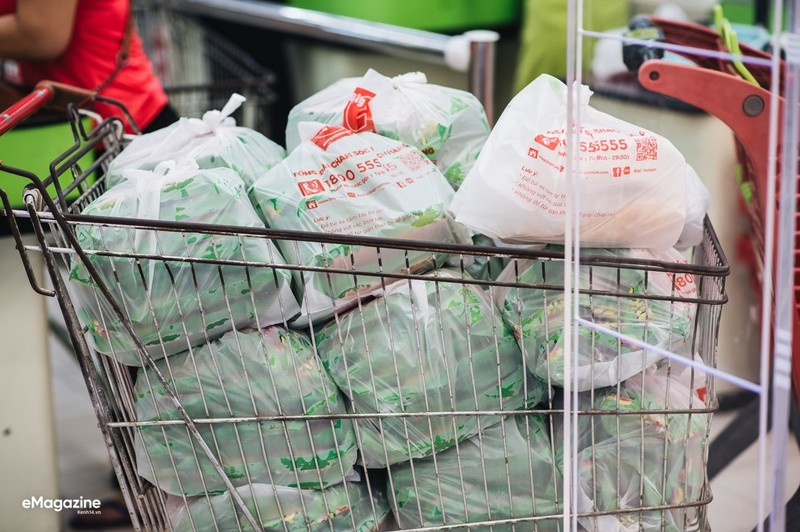plastic bag: (72, 68, 717, 532)
